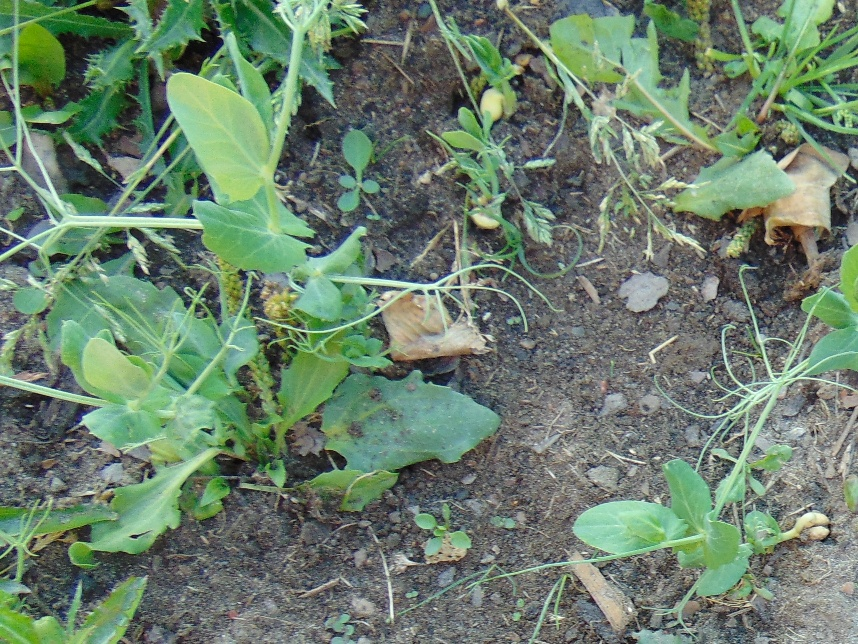crop: (554, 241, 858, 629), (165, 69, 474, 354), (14, 299, 252, 452), (250, 206, 488, 359), (27, 173, 314, 272), (3, 98, 74, 262), (440, 87, 509, 233), (444, 17, 525, 115), (50, 513, 95, 589), (1, 513, 45, 589)
weed: (549, 1, 855, 214), (546, 21, 757, 258), (254, 356, 505, 512), (1, 1, 174, 175), (131, 1, 370, 111), (85, 453, 255, 557), (1, 252, 181, 322), (333, 128, 380, 210), (414, 500, 473, 565), (499, 179, 558, 244), (332, 612, 360, 644)
